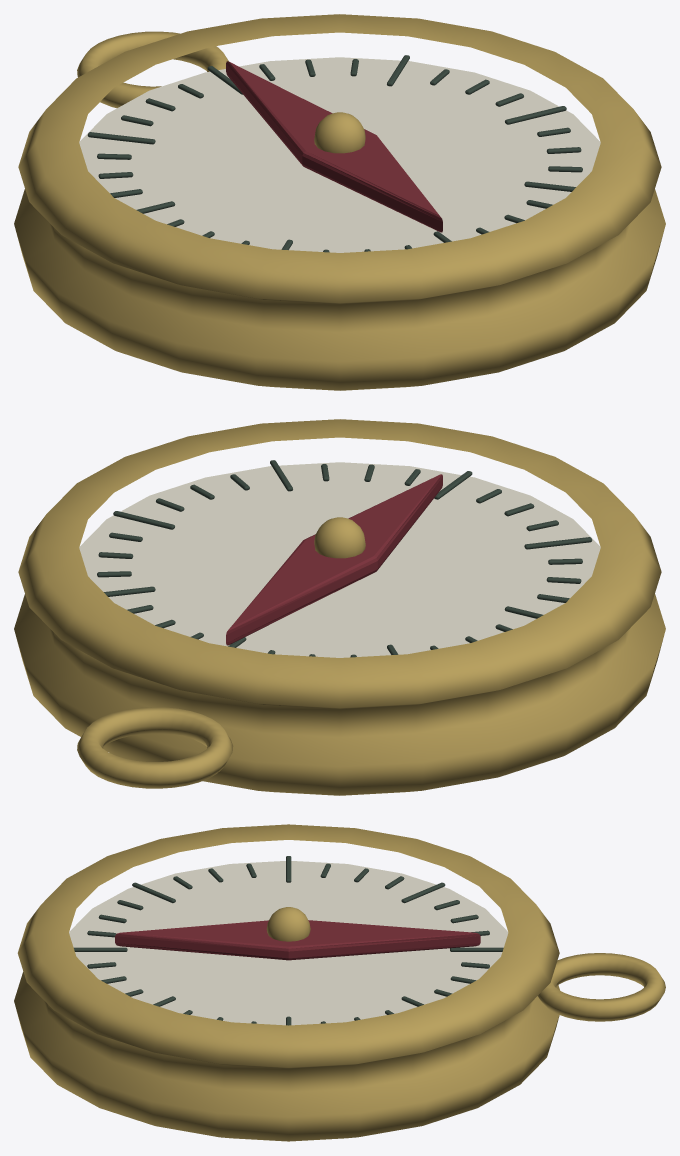
File: brass-compass.glb
The picture shows the model from 3 angles, top to bottom: view 1: azimuth 30°, elevation 25°; view 2: azimuth 150°, elevation 25°; view 3: azimuth 270°, elevation 25°; orthographic projection. The views are drawn at different scales.
Parts seen in each view (by area): view 1: brass-compass; view 2: brass-compass; view 3: brass-compass.
Part boxes in pixels (x1=…): brass-compass: x1=14, y1=14, x2=665, y2=390; brass-compass: x1=14, y1=419, x2=665, y2=795; brass-compass: x1=14, y1=824, x2=665, y2=1141.
Bounding box in the file's own units: 0.16 × 0.045 × 0.19.
